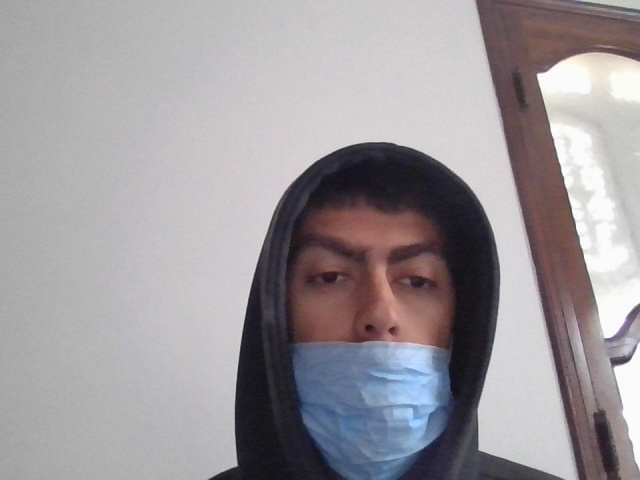mask_weared_incorrect: (280, 171, 486, 469)
